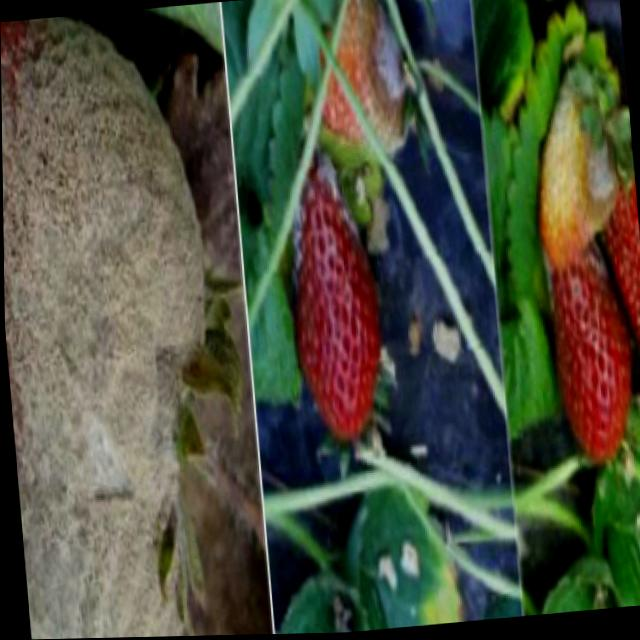Gray Mold: (0, 15, 205, 640), (536, 61, 627, 273), (333, 0, 408, 155)
